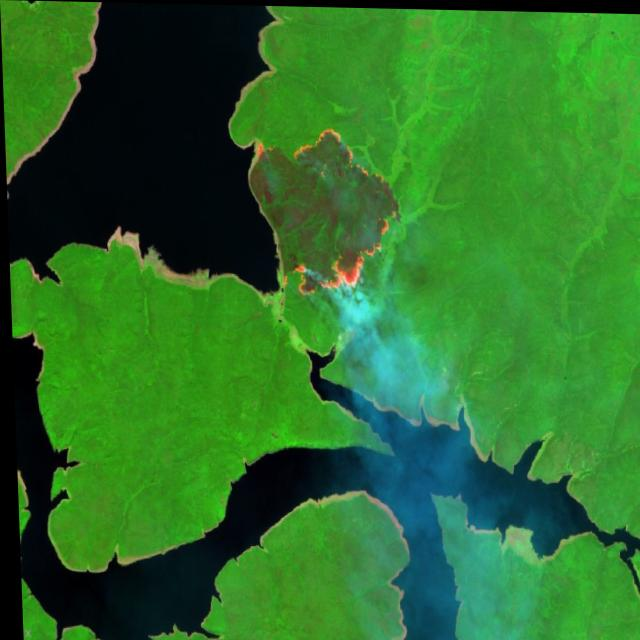fire: (241, 112, 405, 301)
